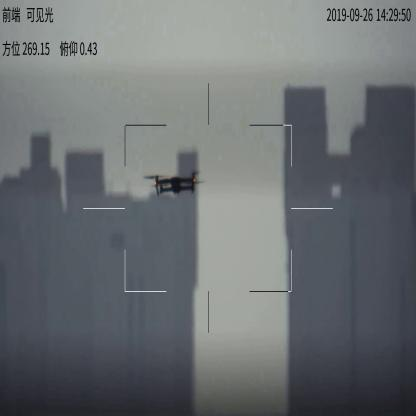uav: (142, 170, 204, 194)
